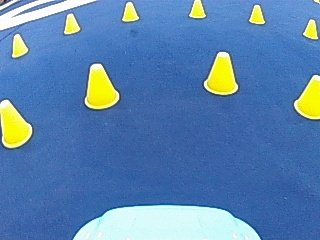cone: (83, 61, 119, 108), (203, 49, 238, 94), (0, 98, 32, 146), (293, 74, 320, 118), (11, 33, 28, 57), (63, 12, 80, 34), (121, 1, 139, 21), (248, 3, 265, 24), (302, 18, 318, 39), (188, 0, 206, 18)
